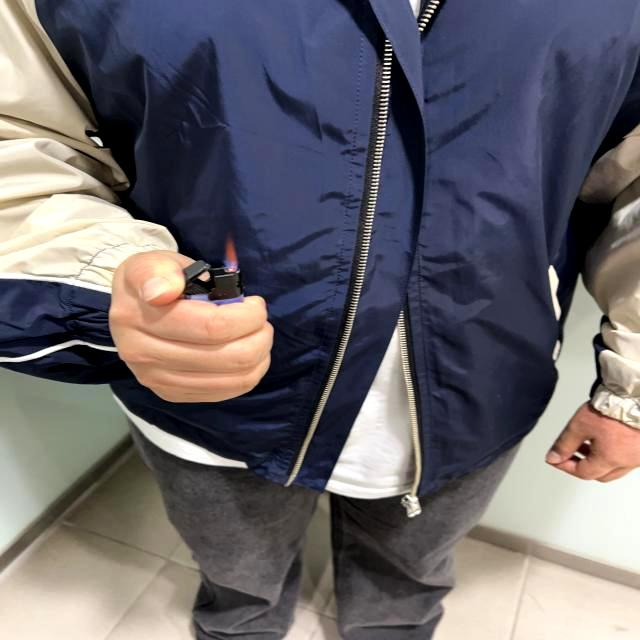fire: (222, 236, 238, 272)
